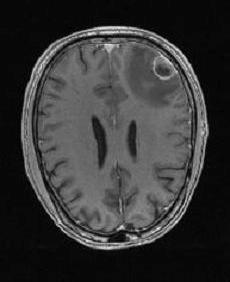Normal_Brain: (13, 26, 230, 282)
